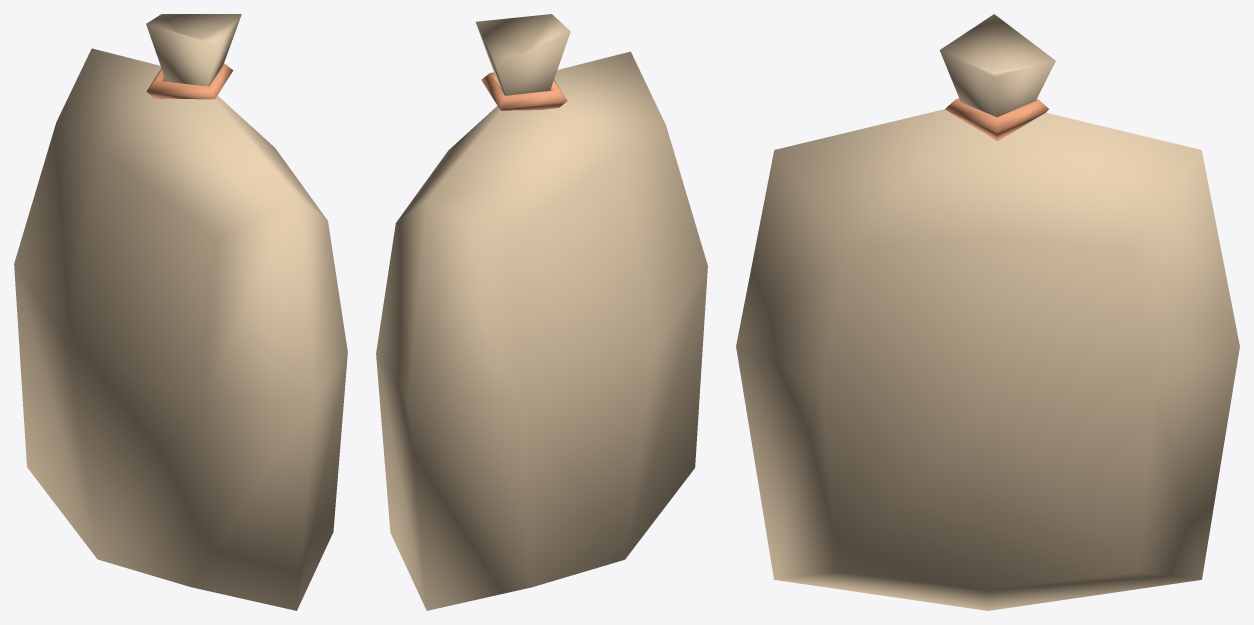
Rendered from Sac de farine av fermeture.fbx.
3 views of the same model, side by side, from view 1: azimuth 30°, elevation 25°; view 2: azimuth 150°, elevation 25°; view 3: azimuth 270°, elevation 25° (orthographic). The views are drawn at different scales.
Parts seen in each view (by area): view 1: Sac de farine av fermeture; view 2: Sac de farine av fermeture; view 3: Sac de farine av fermeture.
Part boxes in pixels (box(x1,y1,x2,y2)): Sac de farine av fermeture: box(14, 14, 347, 610); Sac de farine av fermeture: box(376, 14, 707, 610); Sac de farine av fermeture: box(736, 14, 1239, 610).
Size of the model in its own units: 70.59 by 151 by 120.
